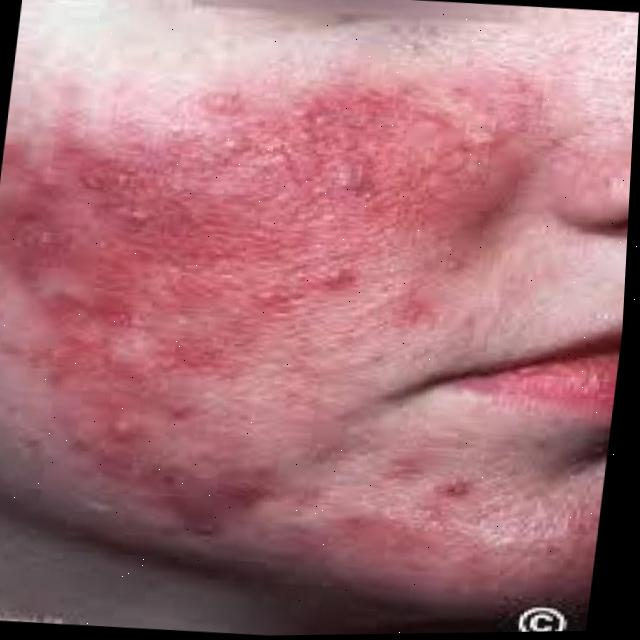Rosacea: (0, 39, 481, 499)
